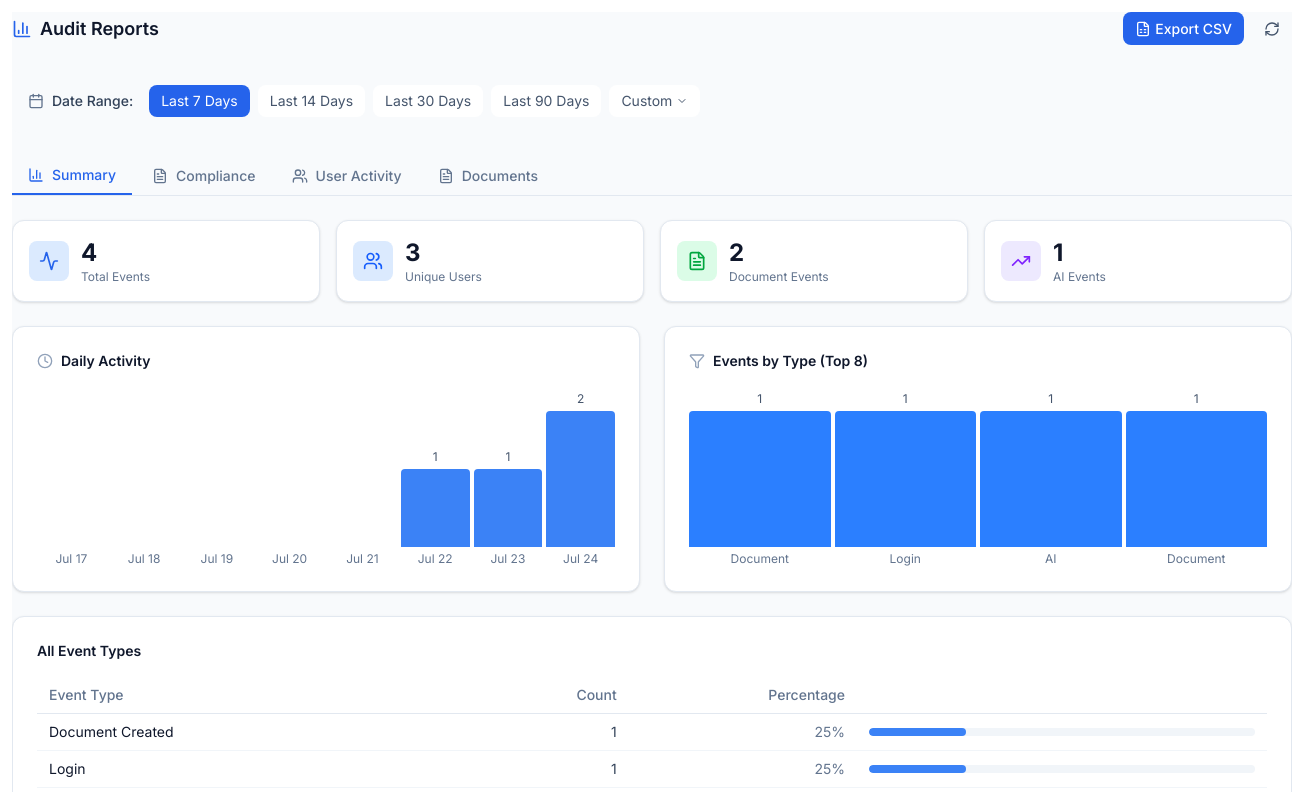
Scenario: AuditReportGenerator › Date Range Selection › should show custom date picker when Custom clicked
Step 1. Click the button "Custom" → coordinates (655, 101), box [609, 85, 700, 117]
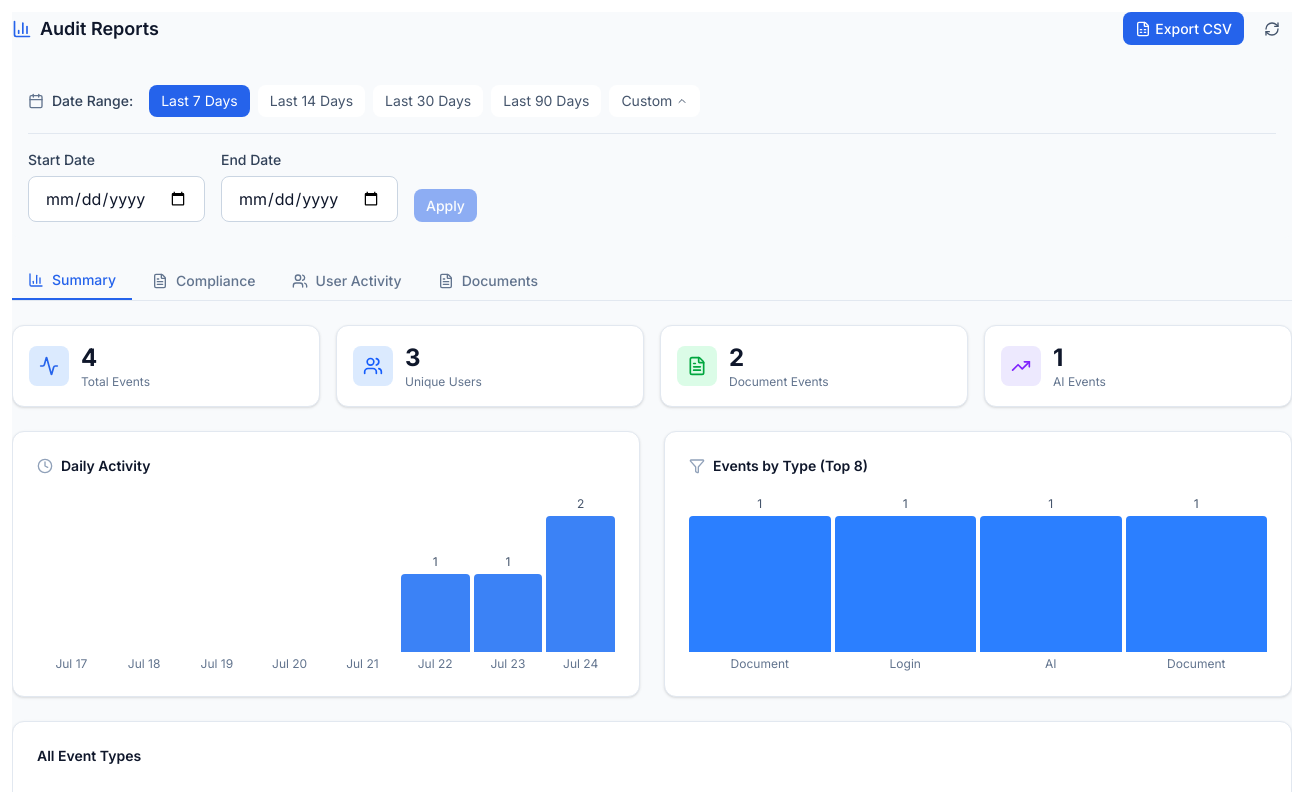
Check: the text "Start Date" is shown, box [28, 151, 95, 168]
Check: the text "End Date" is shown, box [221, 151, 281, 168]
